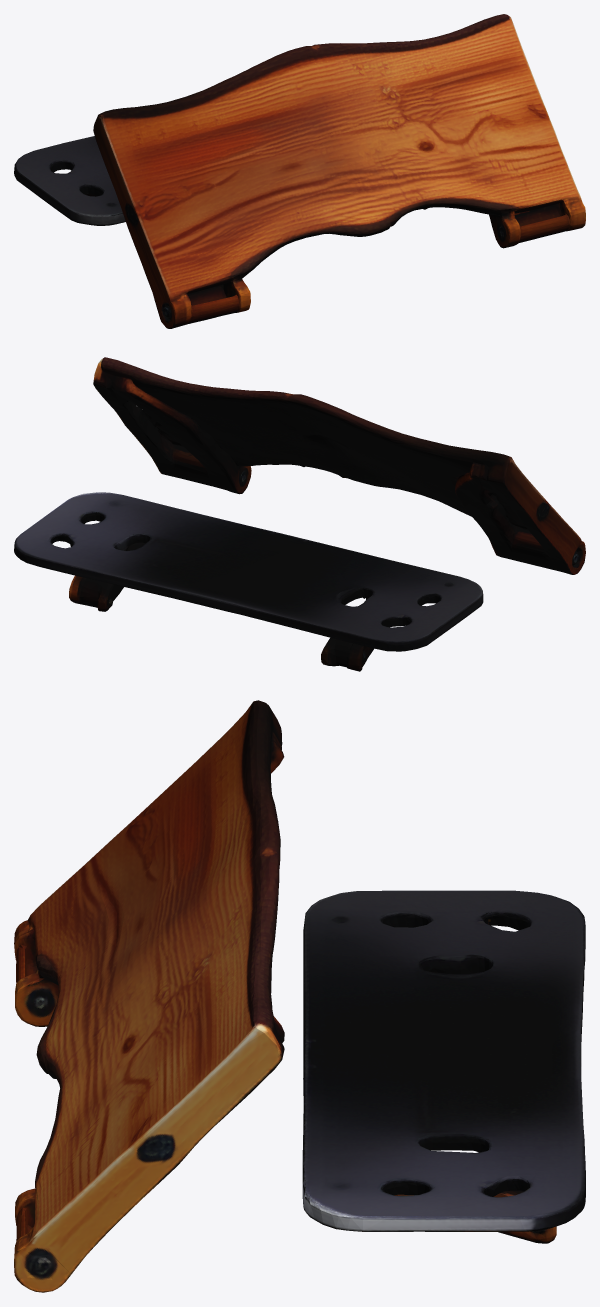
Rendered from wooden-laptop-stand-rustic.jpeg.glb.
The picture shows the model from 3 angles, top to bottom: view 1: azimuth 30°, elevation 25°; view 2: azimuth 150°, elevation 25°; view 3: azimuth 270°, elevation 25°; orthographic projection. The views are drawn at different scales.
Visible parts, largest first — view 1: world; view 2: world; view 3: world.
Boxes of the visible parts, bbox=[...] form: world: bbox=[14, 14, 585, 328]; world: bbox=[14, 357, 585, 671]; world: bbox=[14, 700, 585, 1292].
Bounding box in the file's own units: 1 × 0.4205 × 0.7409.
Materials: 1 (1 with a texture image).
